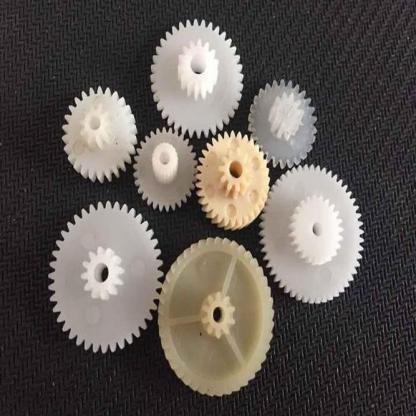FOD: (158, 236, 276, 400), (45, 198, 162, 359), (260, 161, 367, 307), (150, 15, 244, 141), (194, 126, 270, 233), (58, 86, 138, 184), (250, 75, 319, 169), (132, 125, 195, 212)
